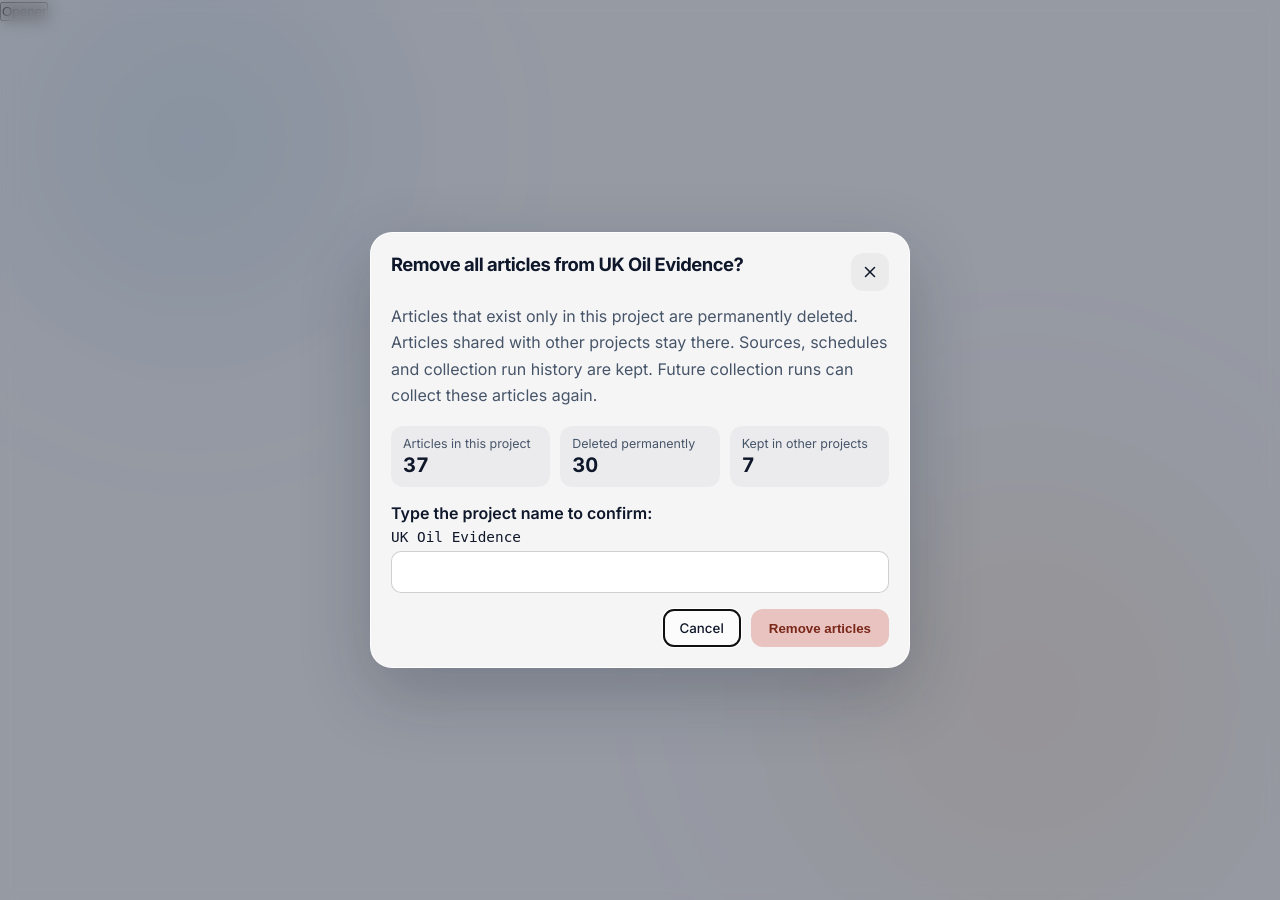
Test: RemoveProjectArticlesDialog › shows a failed removal inside the dialog instead of closing it
Step 1. Type "UK Oil Evidence" into the field labelled "Type the project name to confirm:" → [640, 572], box [391,551,889,593]
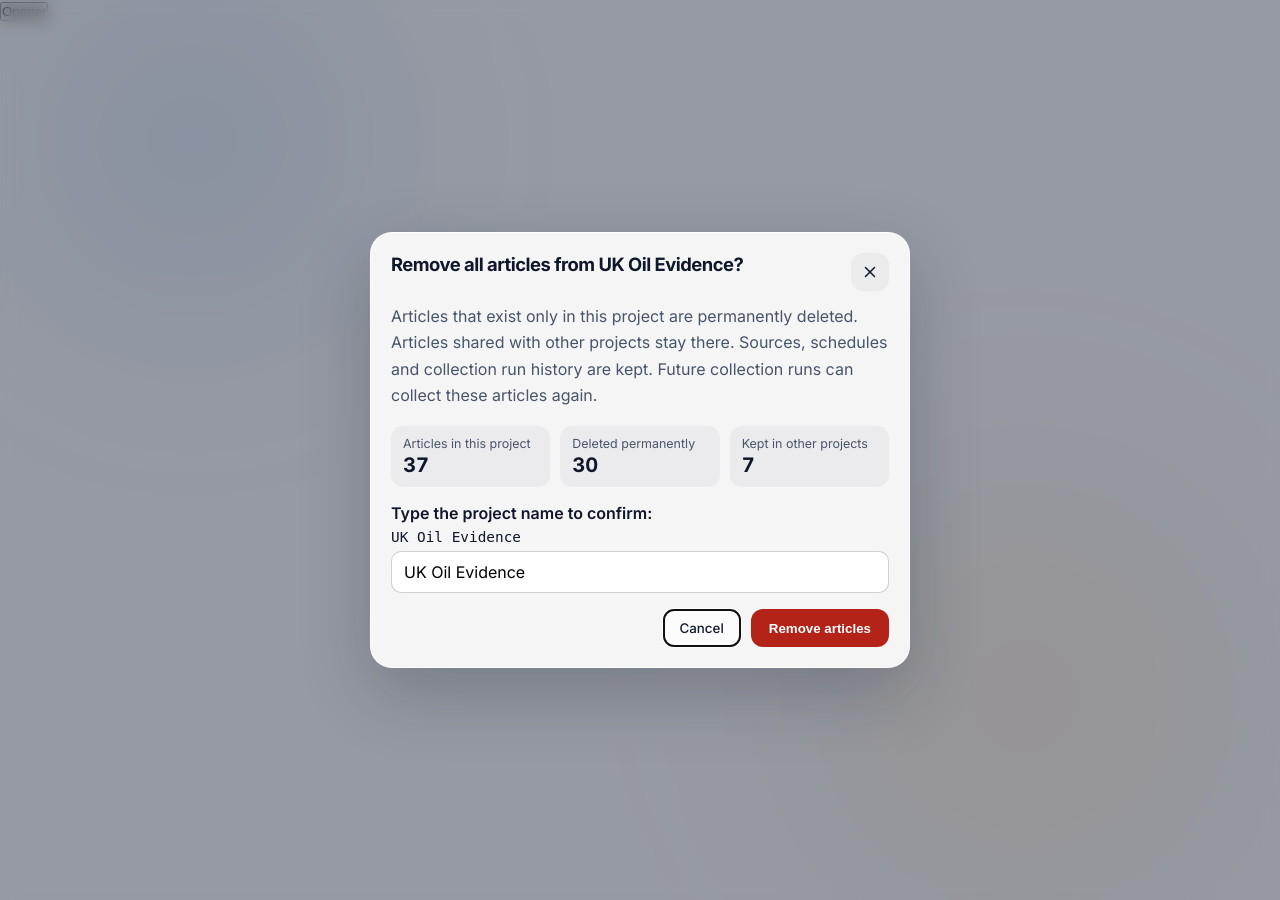
Step 2. Click the button "Remove articles" → [820, 628], box [751,609,889,647]
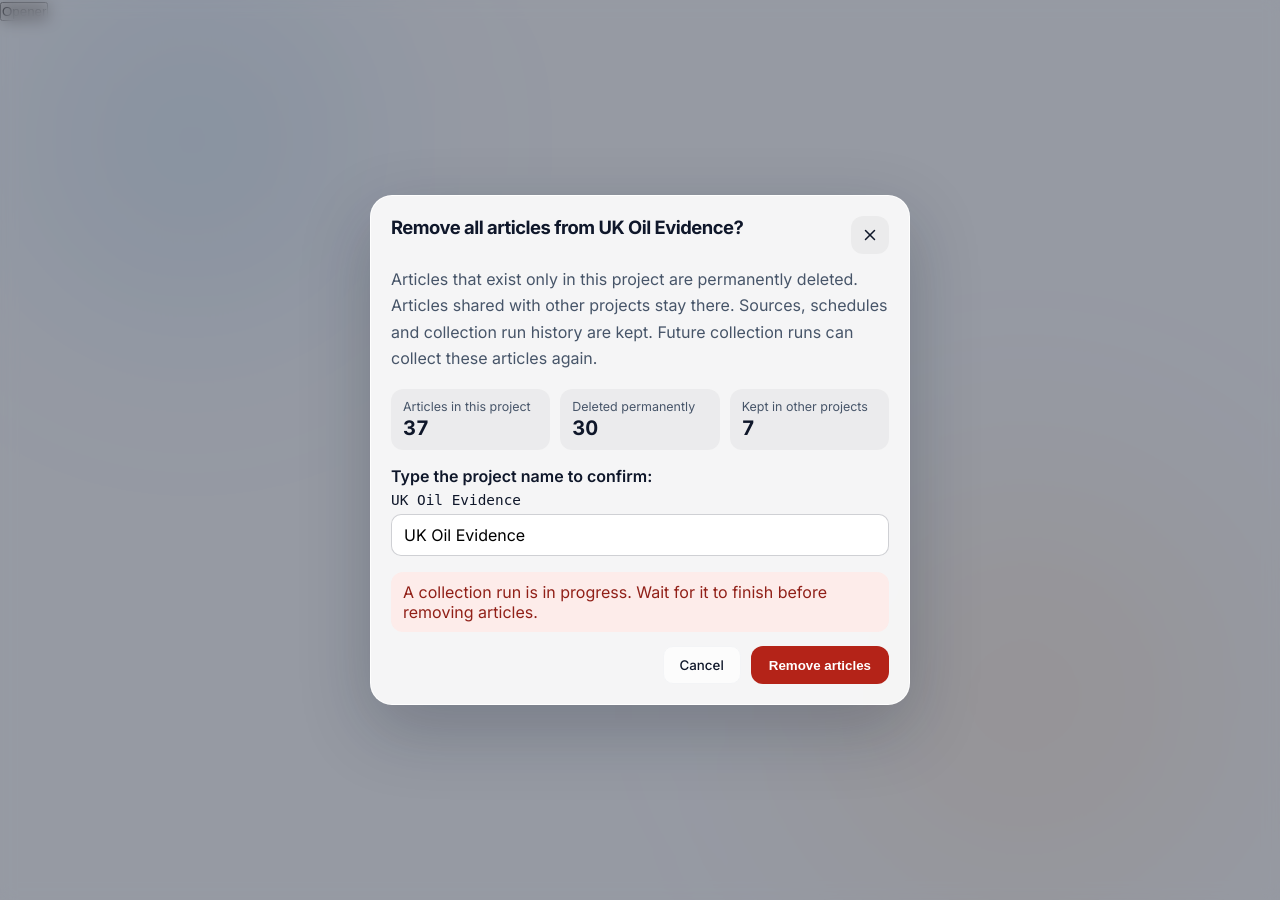
Expected: the message shows "A collection run is in progress", [403,582,827,622]
